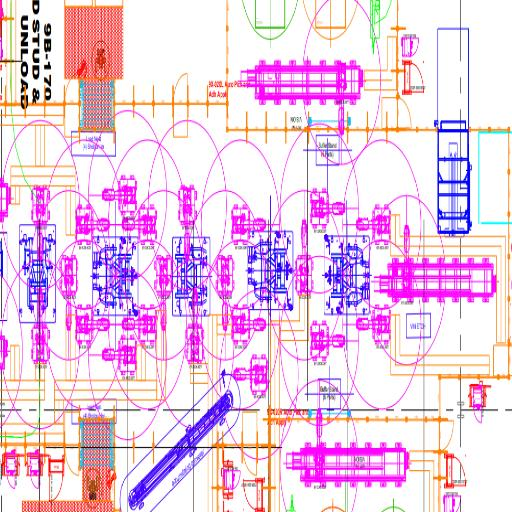robot: (26, 285, 53, 372), (72, 201, 111, 252), (29, 186, 55, 260), (74, 304, 113, 351), (308, 188, 346, 234), (355, 201, 391, 249), (356, 303, 392, 351), (230, 202, 268, 246), (233, 351, 270, 396), (177, 182, 197, 263), (123, 201, 158, 247), (309, 318, 345, 362), (154, 252, 174, 330), (185, 286, 204, 364), (216, 254, 234, 329), (312, 408, 328, 487), (399, 220, 413, 300)
